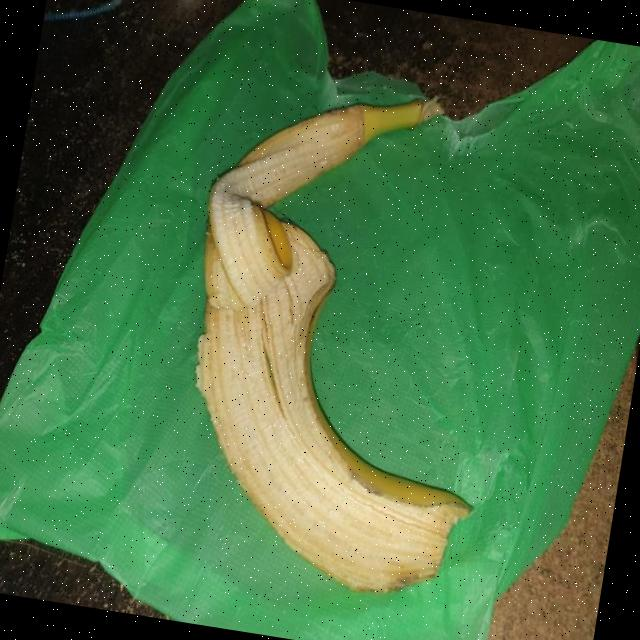banana-peel: (150, 64, 536, 608)
